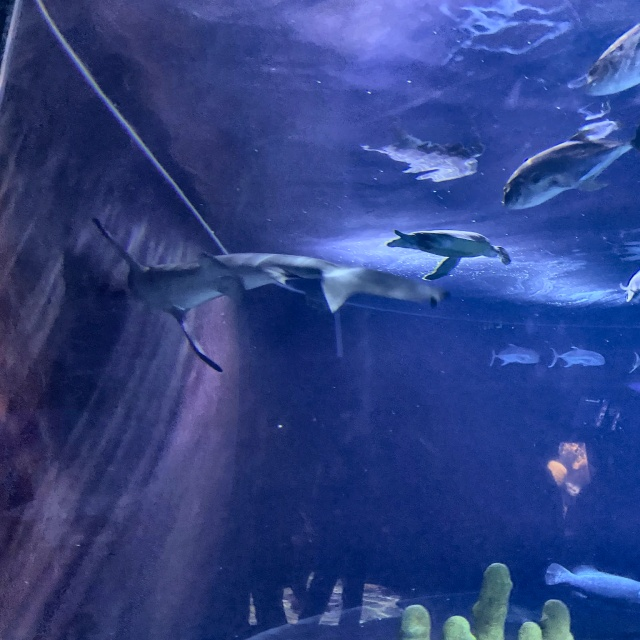fish: (501, 125, 639, 209), (544, 559, 639, 615), (580, 17, 639, 99), (548, 344, 606, 369), (489, 344, 542, 368), (620, 272, 639, 302)
shark: (91, 220, 452, 372)
